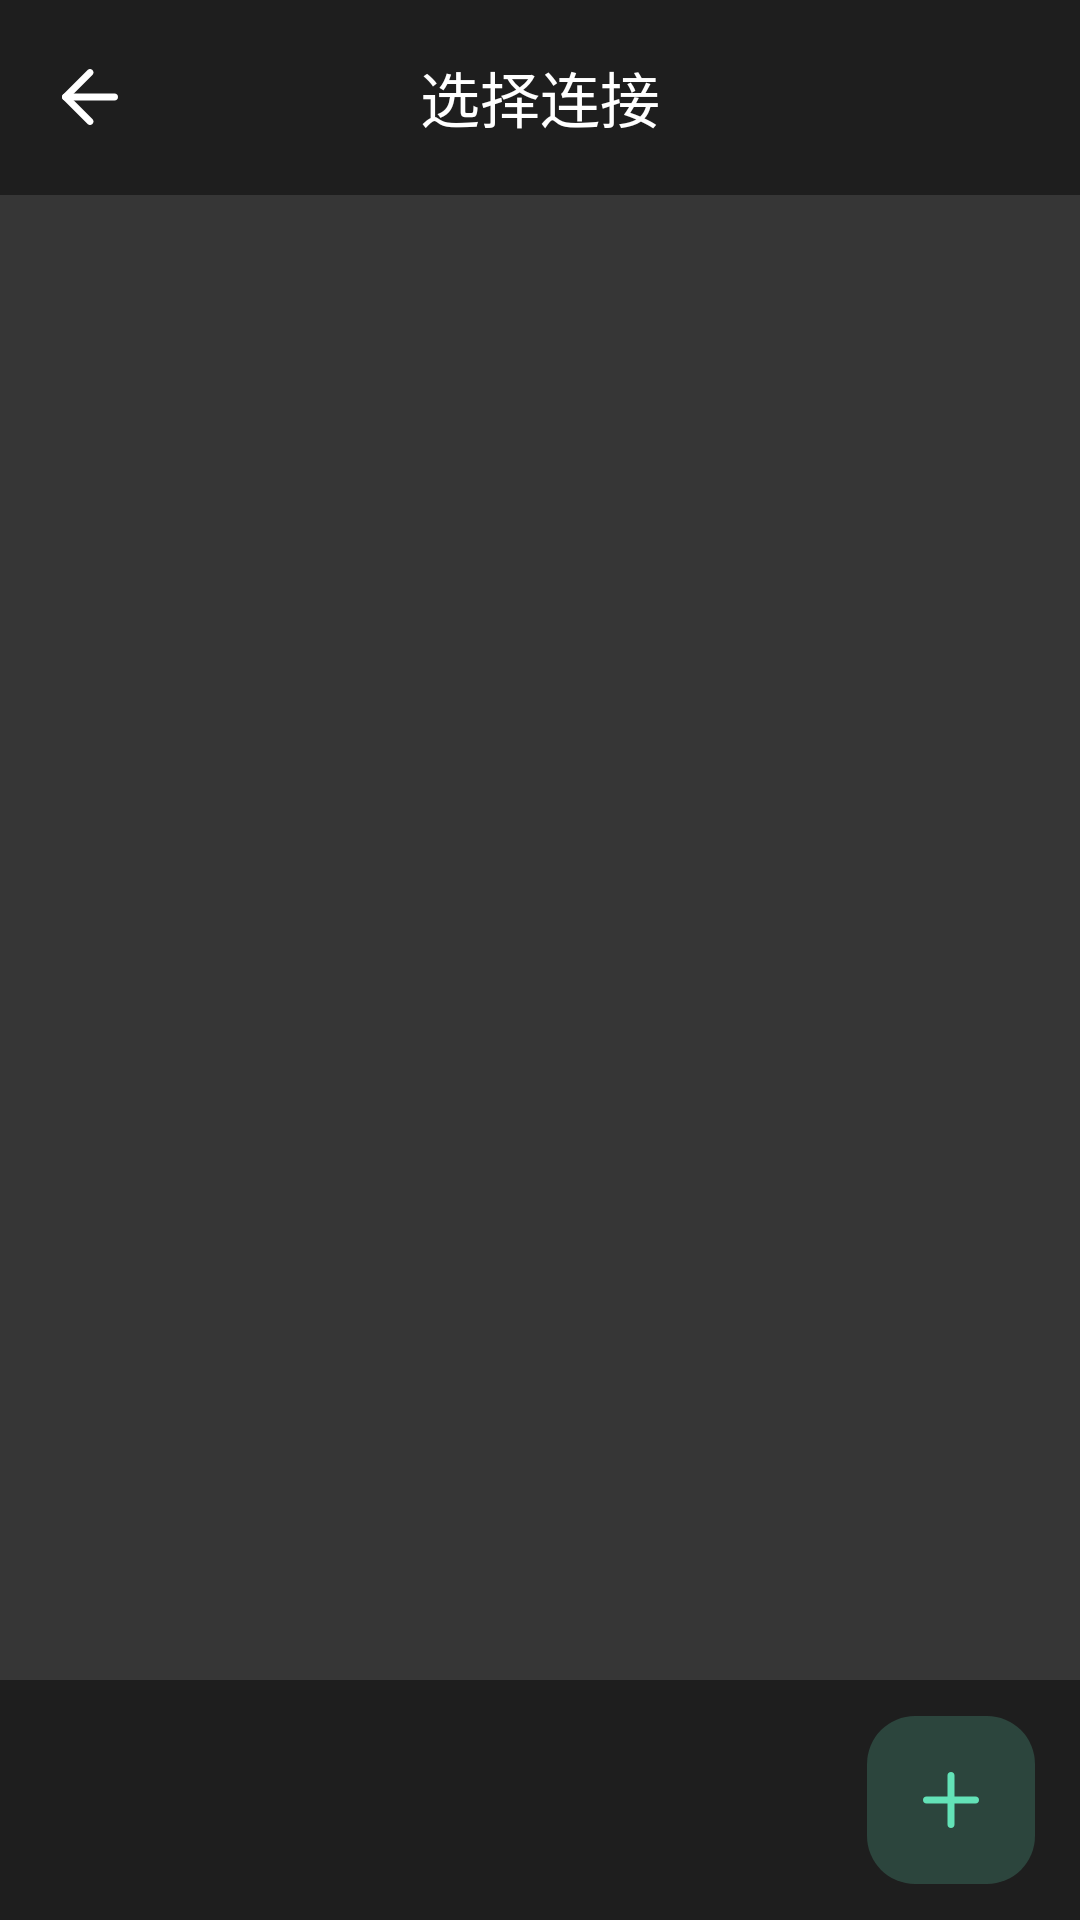

Icon click points for this 1080w x 1920h phone screenshot, format (x=x, y=y):
添加: (x=951, y=1800)
返回: (x=90, y=97)
